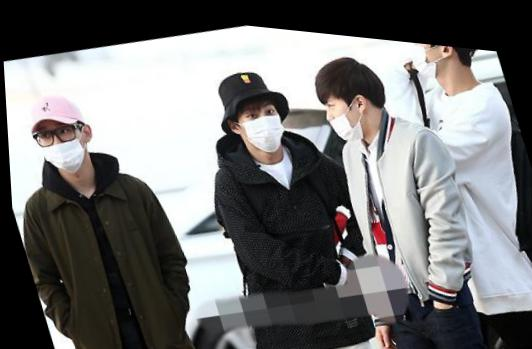OK: (234, 89, 290, 154), (404, 34, 448, 74)
WRONG: (32, 111, 91, 176), (317, 74, 364, 136)
